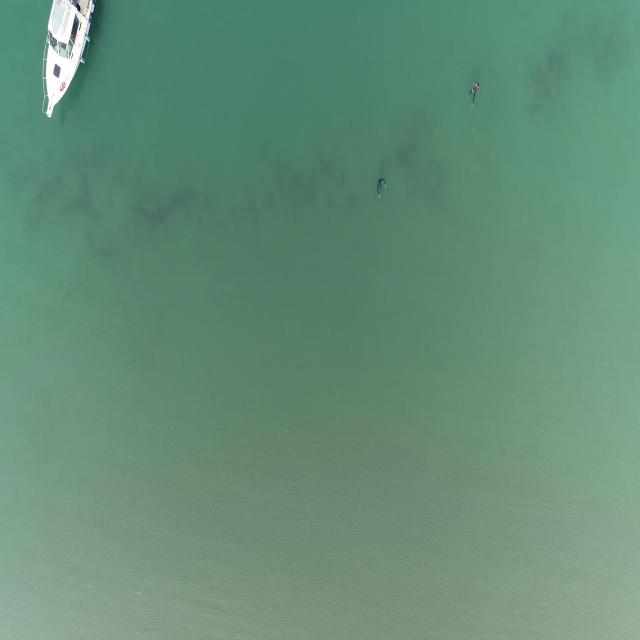boat: (36, 0, 96, 121)
person: (469, 82, 481, 111), (374, 178, 388, 201)
